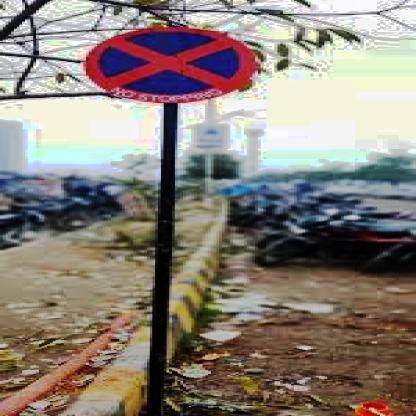No stopping: (82, 26, 256, 106)
